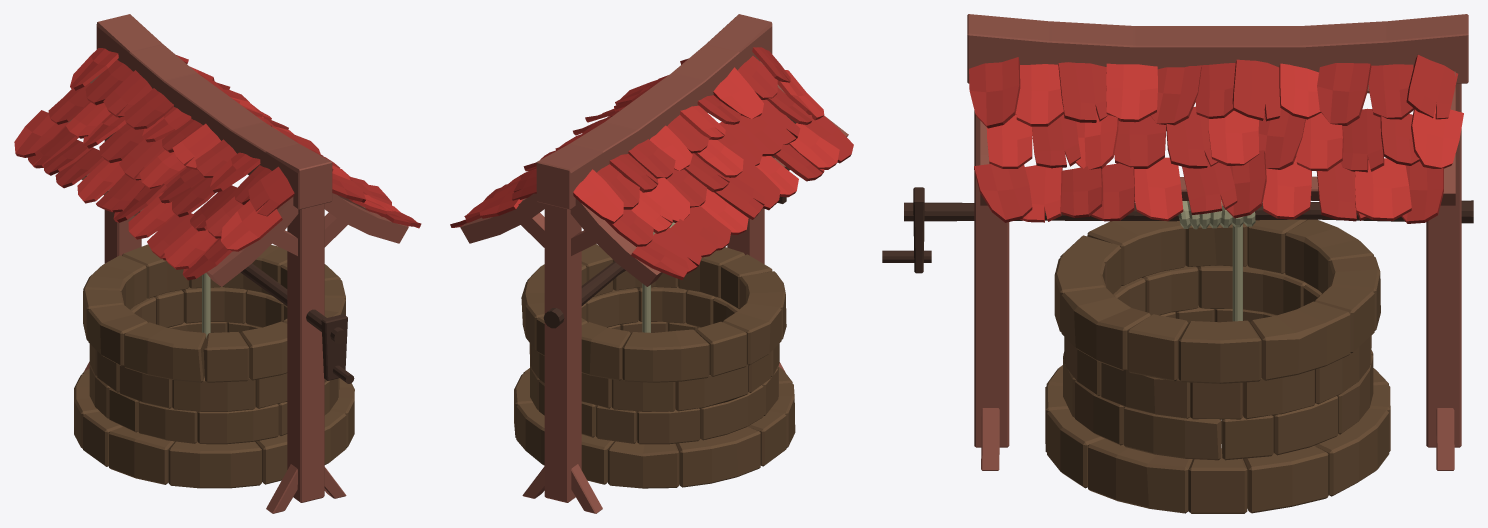
File: Well_01.fbx
3 views of the same model, side by side, from view 1: azimuth 30°, elevation 25°; view 2: azimuth 150°, elevation 25°; view 3: azimuth 270°, elevation 25° (orthographic). The views are drawn at different scales.
Parts seen in each view (by area): view 1: well_01; view 2: well_01; view 3: well_01.
Part boxes in pixels (box(x1,y1,x2,y2)): well_01: box(14, 14, 421, 513); well_01: box(450, 14, 853, 513); well_01: box(882, 14, 1473, 513).
Bounding box in the file's own units: 100 × 136 × 171.
